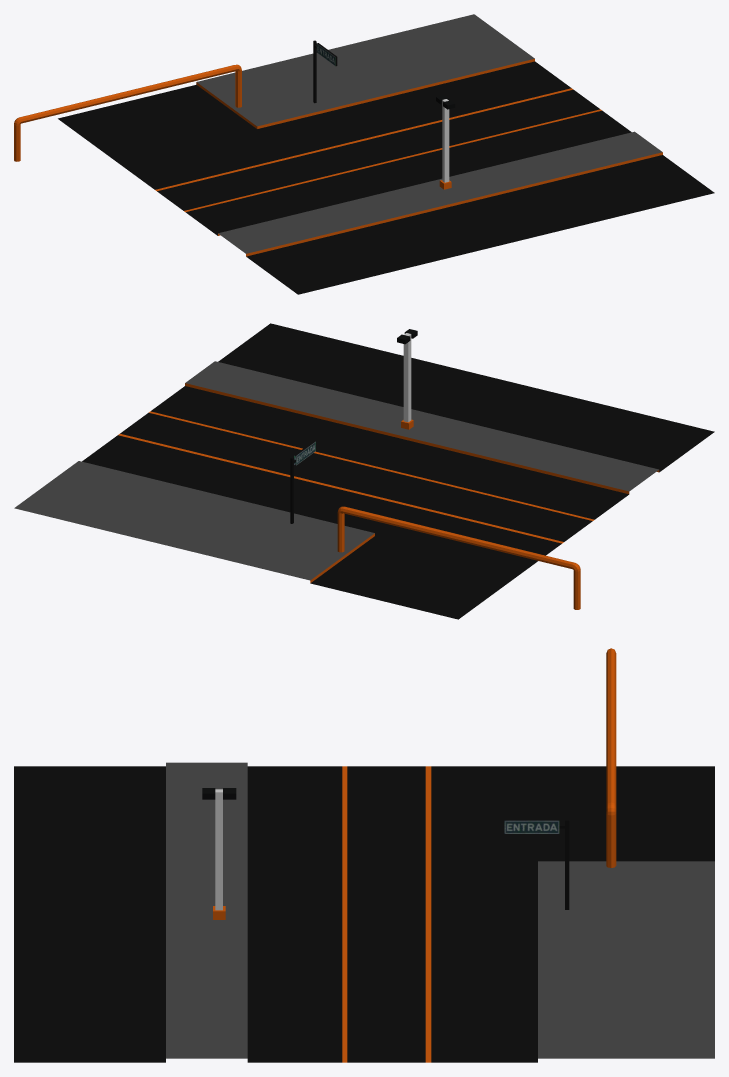
Rendered from 0D_sepg_rs.obj.
3 views of the same model, one above another, from view 1: azimuth 30°, elevation 25°; view 2: azimuth 150°, elevation 25°; view 3: azimuth 270°, elevation 25° (orthographic). The views are drawn at different scales.
Parts seen in each view (by area): view 1: 0D_sepg_rs_Grid.015; view 2: 0D_sepg_rs_Grid.015; view 3: 0D_sepg_rs_Grid.015.
Boxes of the visible parts, bbox=[...] form: 0D_sepg_rs_Grid.015: bbox=[14, 14, 714, 294]; 0D_sepg_rs_Grid.015: bbox=[14, 323, 714, 619]; 0D_sepg_rs_Grid.015: bbox=[14, 648, 714, 1062].
Bounding box in the file's own units: 19.02 × 3.29 × 16.
6 materials, 1 textured.
